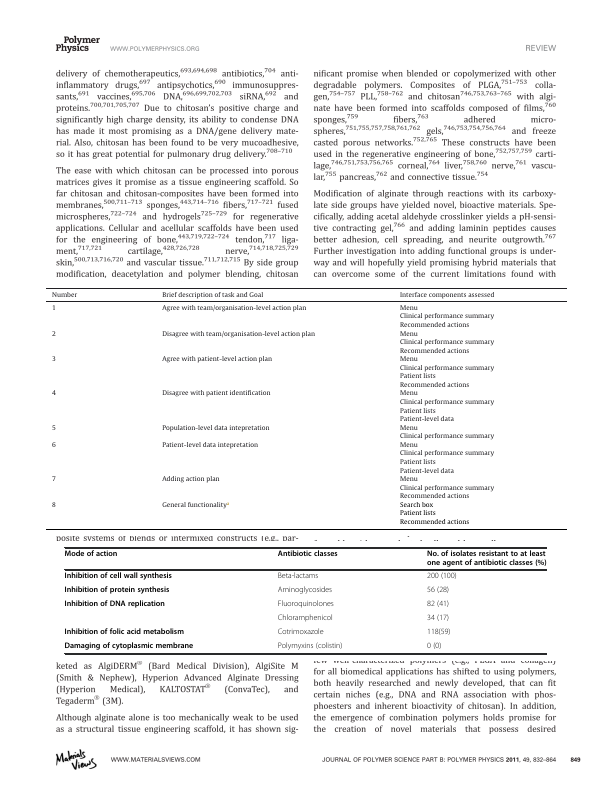borderless: (45, 287, 567, 529), (63, 546, 546, 653)
cell: (398, 356, 494, 390), (398, 390, 494, 424), (398, 442, 494, 476), (398, 330, 494, 356), (398, 305, 494, 330), (398, 476, 494, 501), (426, 550, 547, 568), (398, 502, 470, 527), (398, 424, 494, 441), (161, 330, 315, 339), (64, 642, 194, 652), (64, 628, 185, 638), (161, 305, 307, 313), (64, 572, 173, 582), (64, 586, 170, 596), (64, 600, 166, 610), (161, 390, 271, 399), (161, 424, 270, 433), (161, 291, 264, 300), (161, 356, 272, 364), (398, 291, 495, 300), (161, 442, 258, 450), (277, 642, 343, 652), (161, 501, 230, 510), (277, 600, 335, 610), (277, 586, 333, 596), (277, 614, 333, 624), (277, 550, 339, 559), (64, 550, 118, 559), (161, 476, 220, 484), (277, 628, 324, 638), (277, 572, 319, 582), (426, 572, 457, 582), (50, 291, 78, 300), (426, 628, 451, 638), (426, 586, 450, 596), (426, 600, 450, 610), (426, 614, 450, 624), (426, 642, 442, 652), (50, 330, 56, 339), (50, 390, 56, 399), (50, 424, 56, 433), (50, 305, 56, 313), (50, 356, 56, 364), (50, 442, 56, 450), (50, 476, 56, 484), (50, 502, 56, 510)
